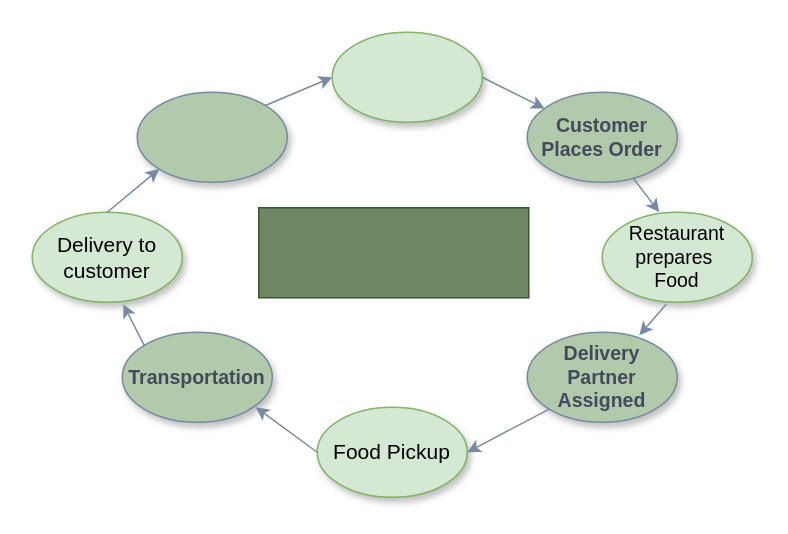
Image size: 788x534. Some labels were removed from this diagram. The centre of each missing label's shape, as x and y in pixels:
"End" belongs at point (213, 139).
"Food Delivery App Lifecycle" belongs at point (393, 252).
"Start" belongs at point (408, 79).
